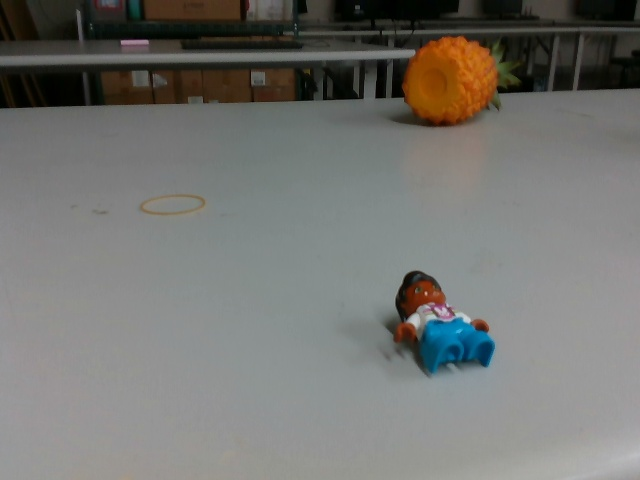people: (386, 262, 498, 380)
